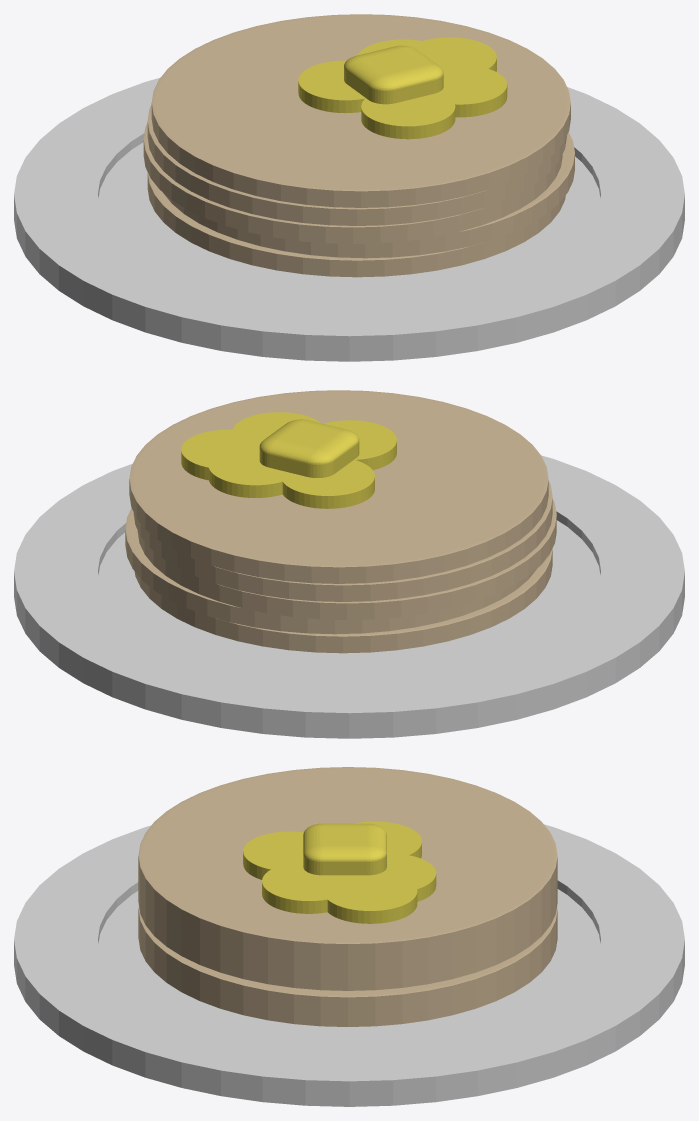
Rendered from Wesley B- Pancakes.glb.
3 renders of one model, top to bottom at view 1: azimuth 30°, elevation 25°; view 2: azimuth 150°, elevation 25°; view 3: azimuth 270°, elevation 25°, orthographic.
Parts seen in each view (by area): view 1: Mesh_Mesh_head_geo.001_lambert2SG.001; view 2: Mesh_Mesh_head_geo.001_lambert2SG.001; view 3: Mesh_Mesh_head_geo.001_lambert2SG.001.
Part boxes in pixels (bbox=[...]): Mesh_Mesh_head_geo.001_lambert2SG.001: bbox=[14, 14, 684, 361]; Mesh_Mesh_head_geo.001_lambert2SG.001: bbox=[14, 390, 684, 738]; Mesh_Mesh_head_geo.001_lambert2SG.001: bbox=[14, 767, 684, 1106].
Bounding box in the file's own units: 0.1425 × 0.035 × 0.1425.
